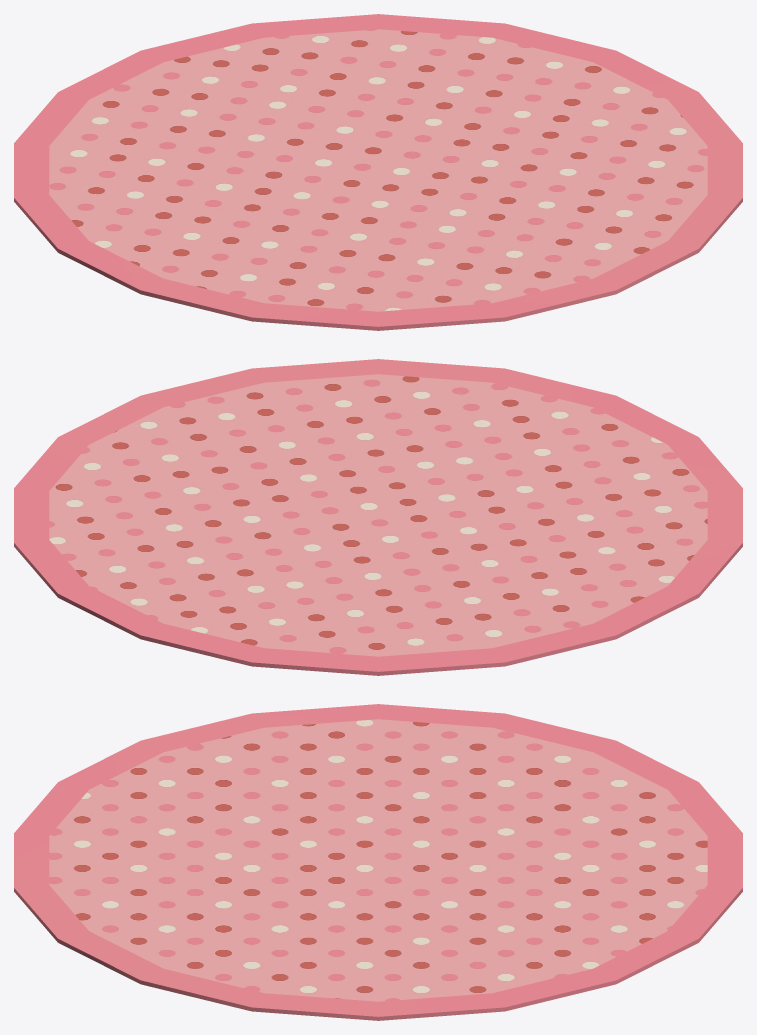
File: Rug.FBX
3 renders of one model, top to bottom at view 1: azimuth 30°, elevation 25°; view 2: azimuth 150°, elevation 25°; view 3: azimuth 270°, elevation 25°, orthographic.
Visible parts, largest first — view 1: Run; view 2: Run; view 3: Run.
Boxes of the visible parts, x1,y1,x2,y2 form: Run: (14,14,742,330); Run: (14,359,742,675); Run: (14,704,742,1020).
Size of the model in its own units: 3.56 by 0.0214 by 3.5.
